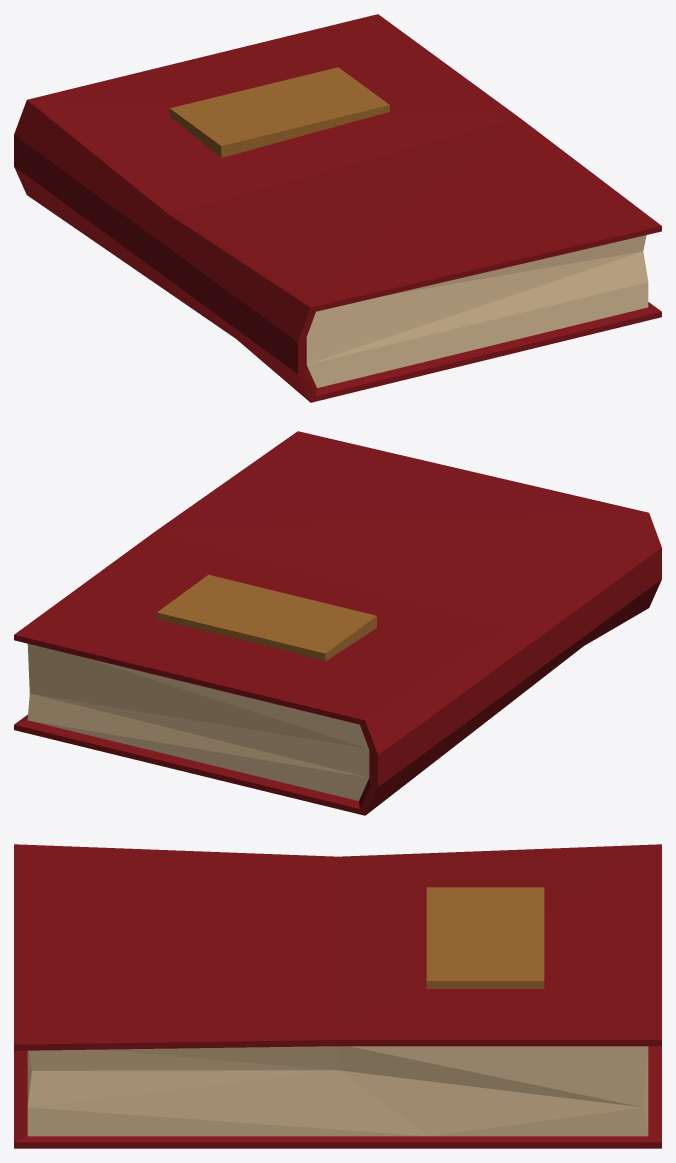
Rendered from TomeOfExperienceModel.glb.
3 renders of one model, top to bottom at view 1: azimuth 30°, elevation 25°; view 2: azimuth 150°, elevation 25°; view 3: azimuth 270°, elevation 25°, orthographic. The views are drawn at different scales.
Visible parts, largest first — view 1: SM_Book_01, GoldBit; view 2: SM_Book_01, GoldBit; view 3: SM_Book_01, GoldBit.
Part boxes in pixels (x1,y1,x2,y2): SM_Book_01: [14, 14, 661, 402]; GoldBit: [169, 67, 389, 157]; SM_Book_01: [14, 431, 661, 815]; GoldBit: [157, 574, 376, 661]; SM_Book_01: [14, 844, 661, 1148]; GoldBit: [426, 887, 544, 988].
Bounding box in the file's own units: 0.1685 × 0.0452 × 0.2276.
